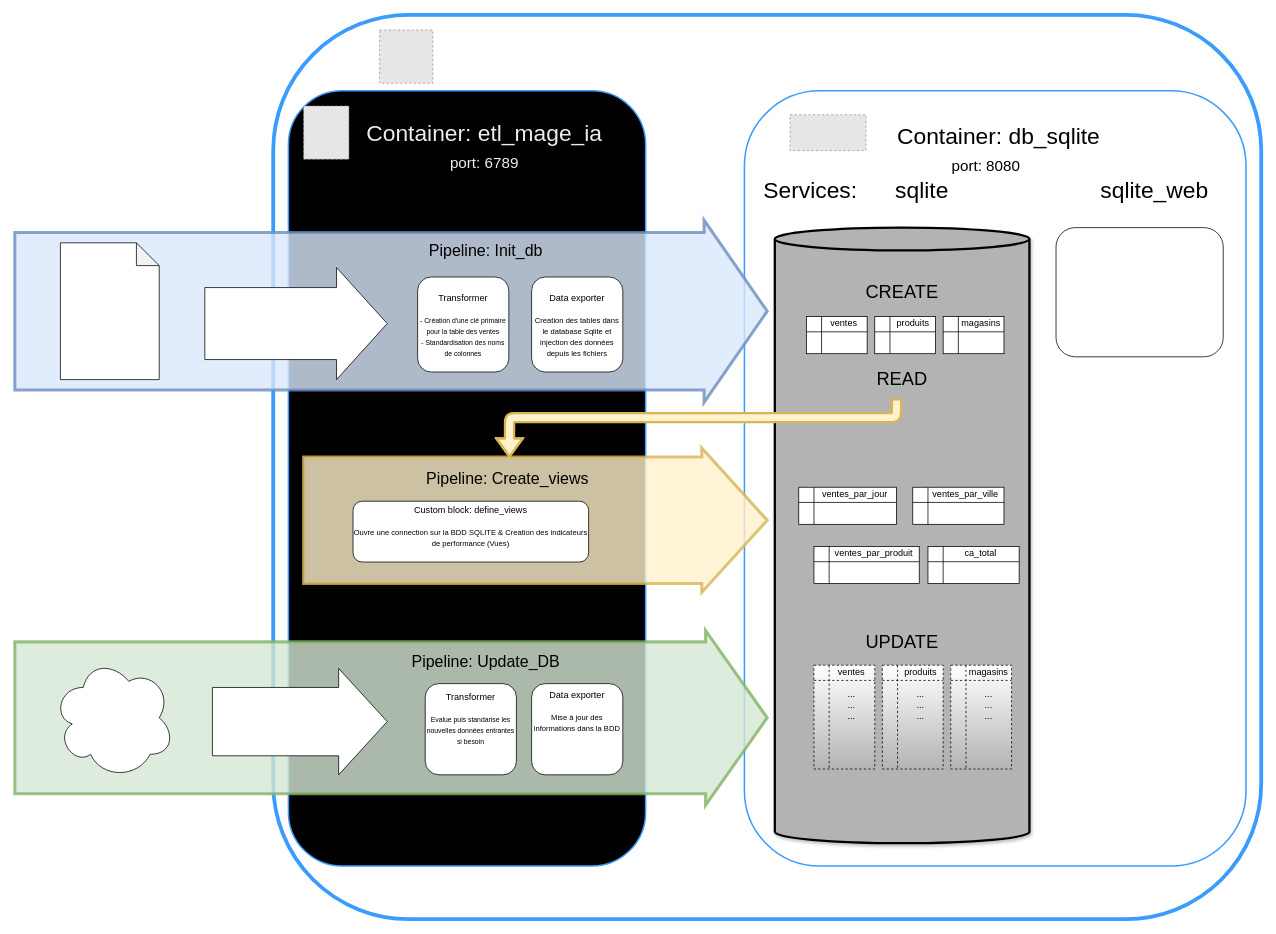
Image size: 1276x934. Some labels were removed from this diagram. Grey dashed boxes stand in for pictures. Each missing label, with the centre of its shape:
"Data Loader Charge les fichiers CSV cible dans le pipeline" goes at pixel 295 323.
"Data Loader Requete Http: Recuperation des nouvelles données" goes at pixel 299 721.
"Fichiers locaux Produits.csv magasins.csv ventes.csv" goes at pixel 109 311.
"Url client" goes at pixel 113 717.
"Web ui pour SQLITE" goes at pixel 1139 292.
